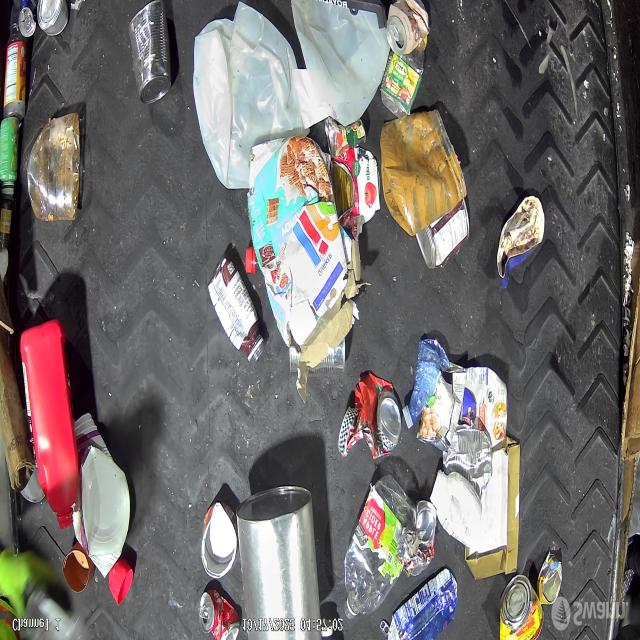can: (337, 371, 402, 460), (417, 359, 467, 452), (130, 2, 173, 106), (414, 197, 470, 271), (442, 424, 492, 496), (385, 0, 429, 58), (499, 576, 538, 637), (200, 584, 241, 640), (288, 338, 346, 377), (411, 499, 439, 573), (536, 550, 564, 604), (36, 0, 69, 38), (17, 0, 37, 40)
milk_jug: (191, 0, 309, 192), (291, 0, 390, 125)
non_white_jug: (21, 321, 78, 533)
plastic_bottle: (341, 482, 410, 622)
